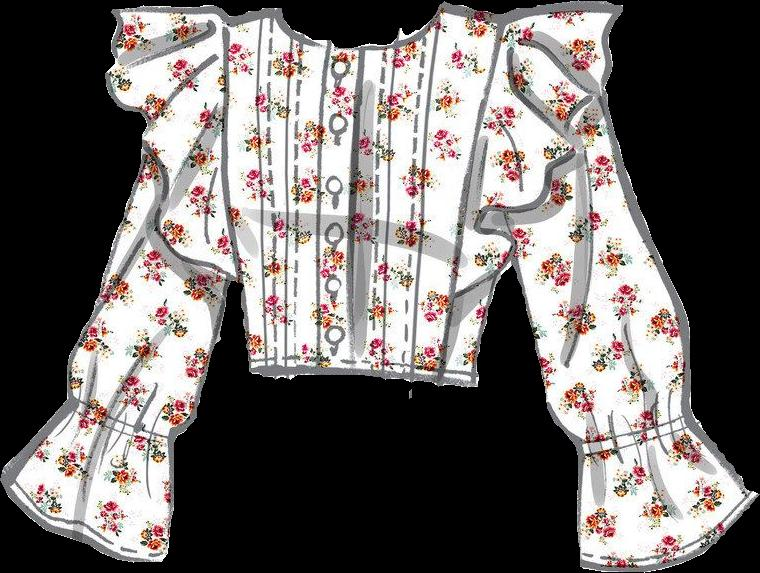Bodice: (105, 1, 622, 386)
Neckline: (437, 14, 509, 377), (220, 21, 256, 374), (275, 0, 447, 50)
Sleeve: (503, 2, 758, 571), (0, 6, 235, 563)
Sleeveline: (217, 19, 235, 220), (501, 13, 515, 208)
Waistline: (451, 6, 623, 293), (104, 12, 242, 281), (106, 14, 240, 281), (508, 7, 623, 208), (65, 396, 177, 440), (573, 414, 693, 453), (249, 367, 477, 385)
